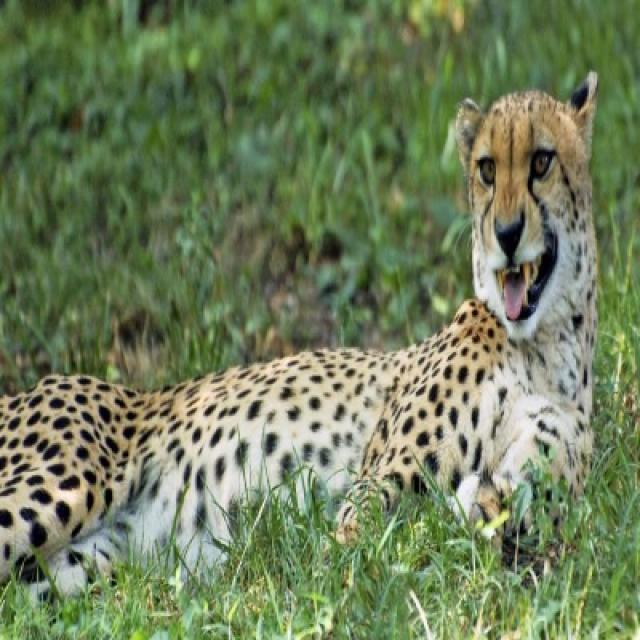Cheetah: (0, 70, 606, 589)
